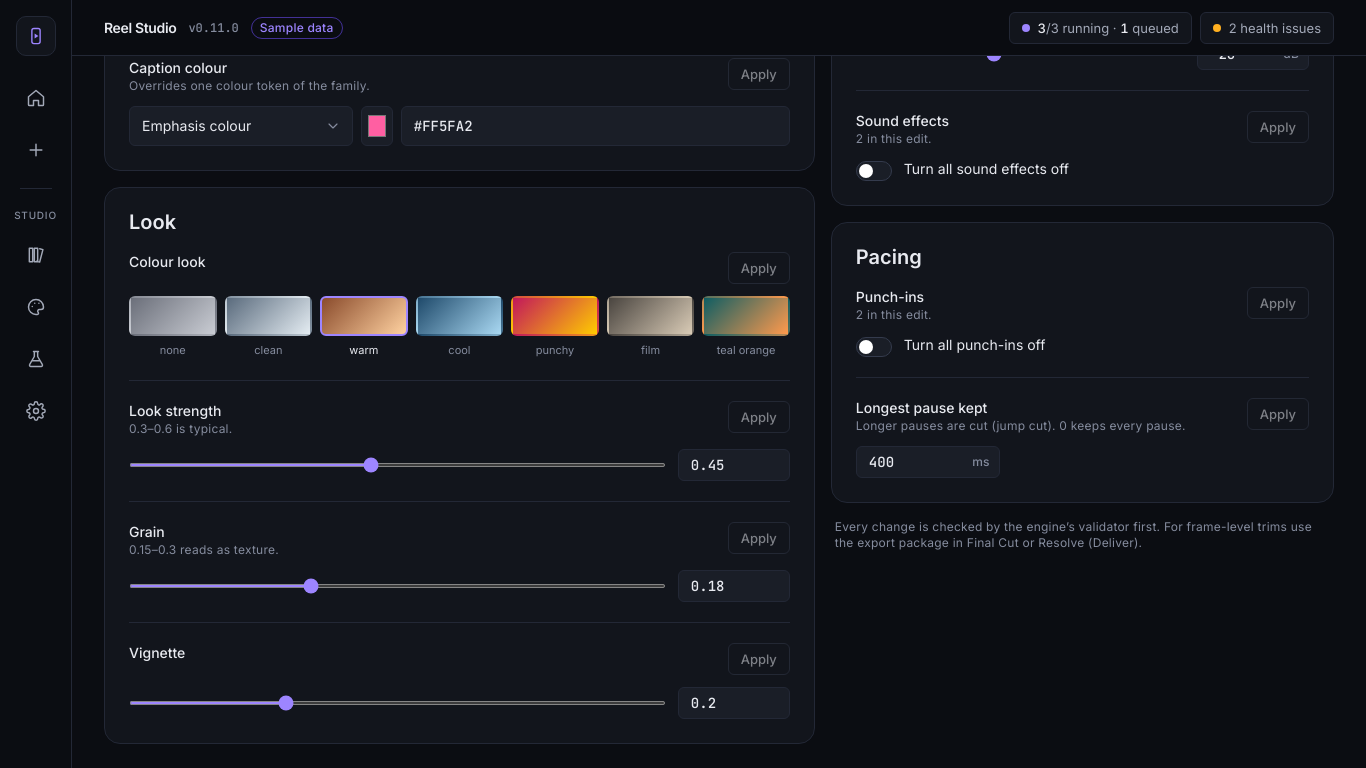
adjust validation display (FR-8, AC-12) › shows the client-side check instantly and blocks Apply
The width and height of the screenshot is (1366, 768).
(page scrolled)
Step 1. Replace the text in the field named "Longest pause kept" with "100" → (928, 462), box top-left (856, 446), bottom-right (1000, 478)
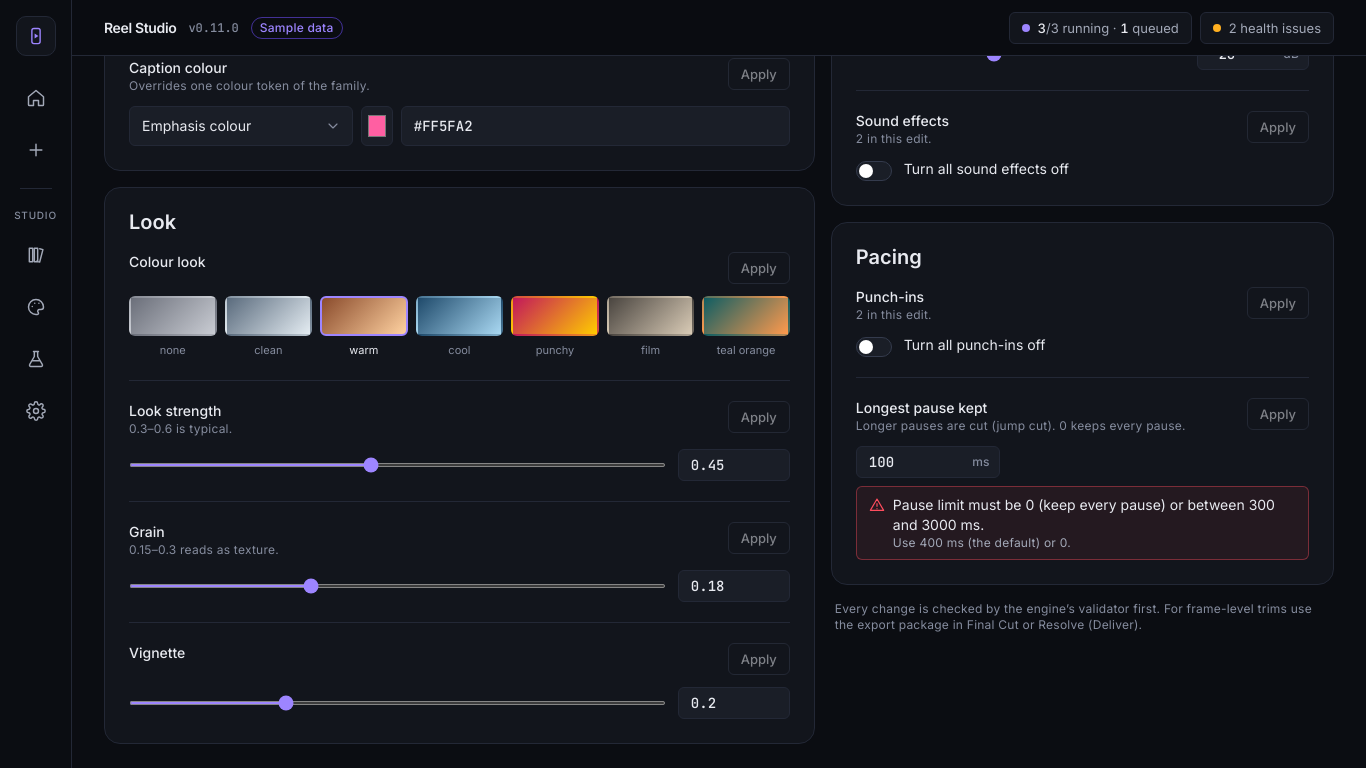
Expected: the message named "Validator issues" shows "Pause limit must be 0 (keep every pause) or between 300 and 3000 ms.", top-left (893, 496), bottom-right (1275, 533)
Expected: the message named "Validator issues" shows "Use 400 ms (the default) or 0.", top-left (893, 535), bottom-right (1071, 550)
